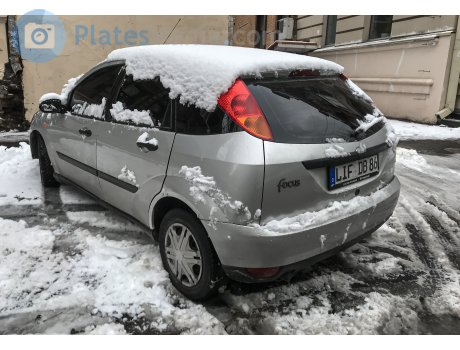License Plates: (331, 158, 383, 178)
